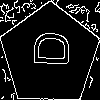D: (24, 30, 69, 68)
